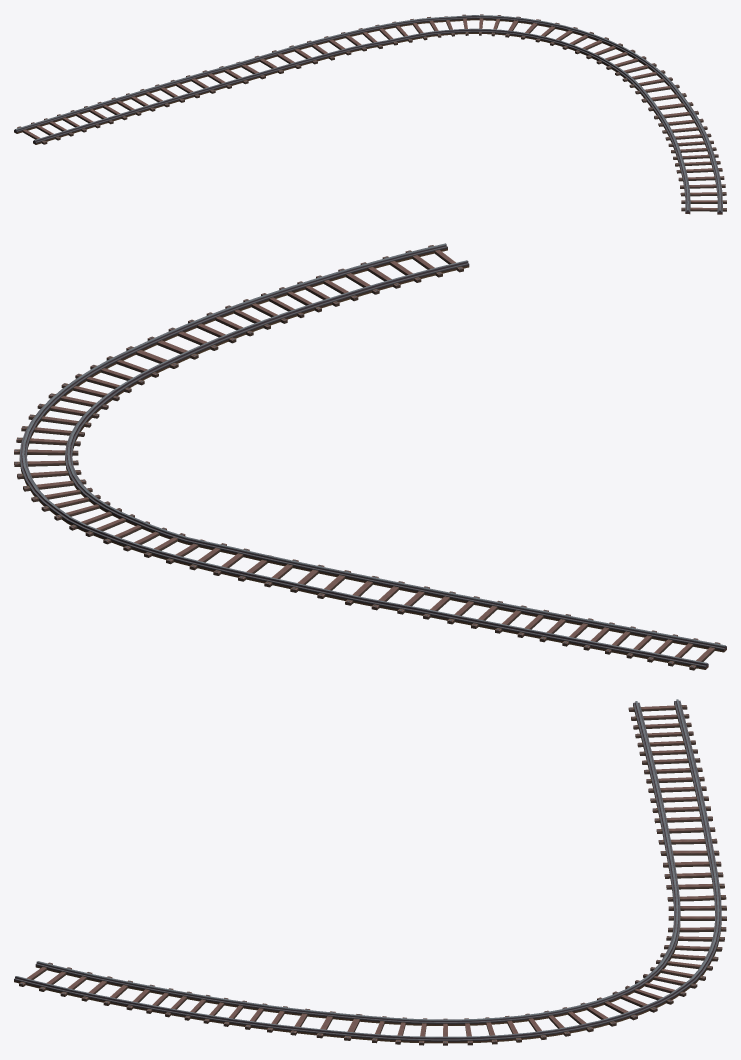
The model's file is scene_malujiakuangdao_tielu01.FBX.
The picture shows the model from 3 angles, top to bottom: view 1: azimuth 30°, elevation 25°; view 2: azimuth 150°, elevation 25°; view 3: azimuth 270°, elevation 25°; orthographic projection. The views are drawn at different scales.
Parts seen in each view (by area): view 1: scene_malujiakuangdao_tielu01; view 2: scene_malujiakuangdao_tielu01; view 3: scene_malujiakuangdao_tielu01.
Boxes of the visible parts, box(x1,y1,x2,y2) form: scene_malujiakuangdao_tielu01: box(14, 14, 726, 214); scene_malujiakuangdao_tielu01: box(14, 243, 726, 670); scene_malujiakuangdao_tielu01: box(14, 699, 726, 1045).
Bounding box in the file's own units: 3158 × 28.42 × 2784.
